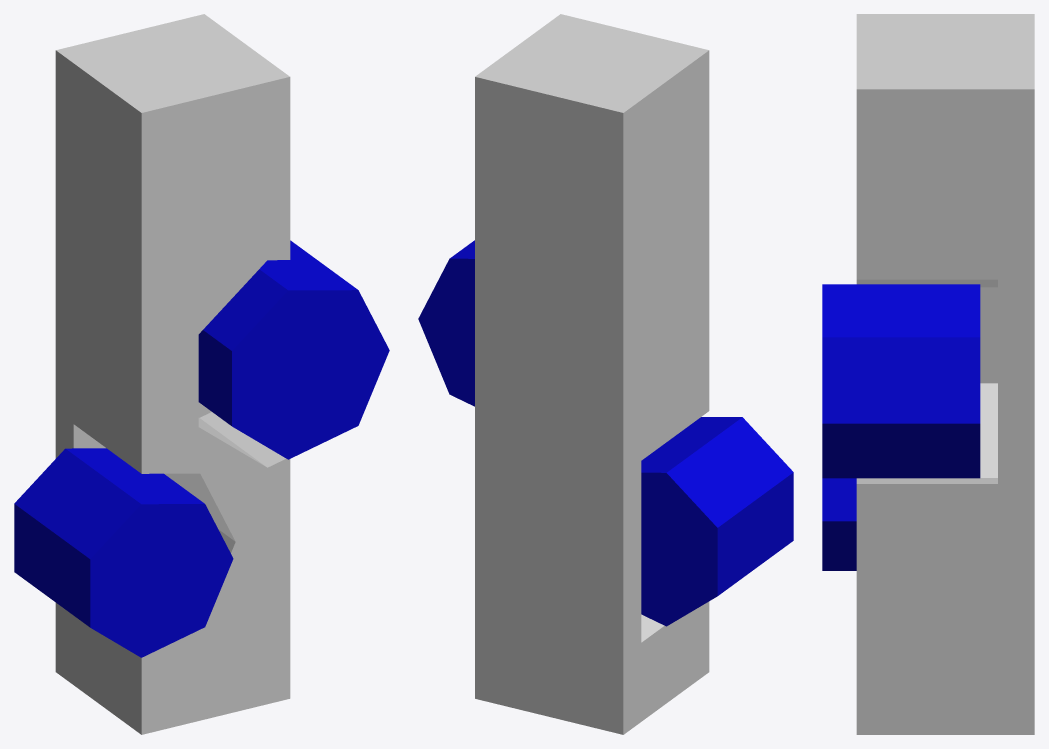
The model's file is Ch_Lite_I_01.fbx.
3 views of the same model, side by side, from view 1: azimuth 30°, elevation 25°; view 2: azimuth 150°, elevation 25°; view 3: azimuth 270°, elevation 25° (orthographic). The views are drawn at different scales.
Visible parts, largest first — view 1: sphere1; view 2: sphere1; view 3: sphere1.
Part boxes in pixels (x1,y1,x2,y2): sphere1: (14,14,389,734); sphere1: (418,14,793,734); sphere1: (822,14,1034,734).
Size of the model in its own units: 0.403 by 0.8 by 0.2387.
